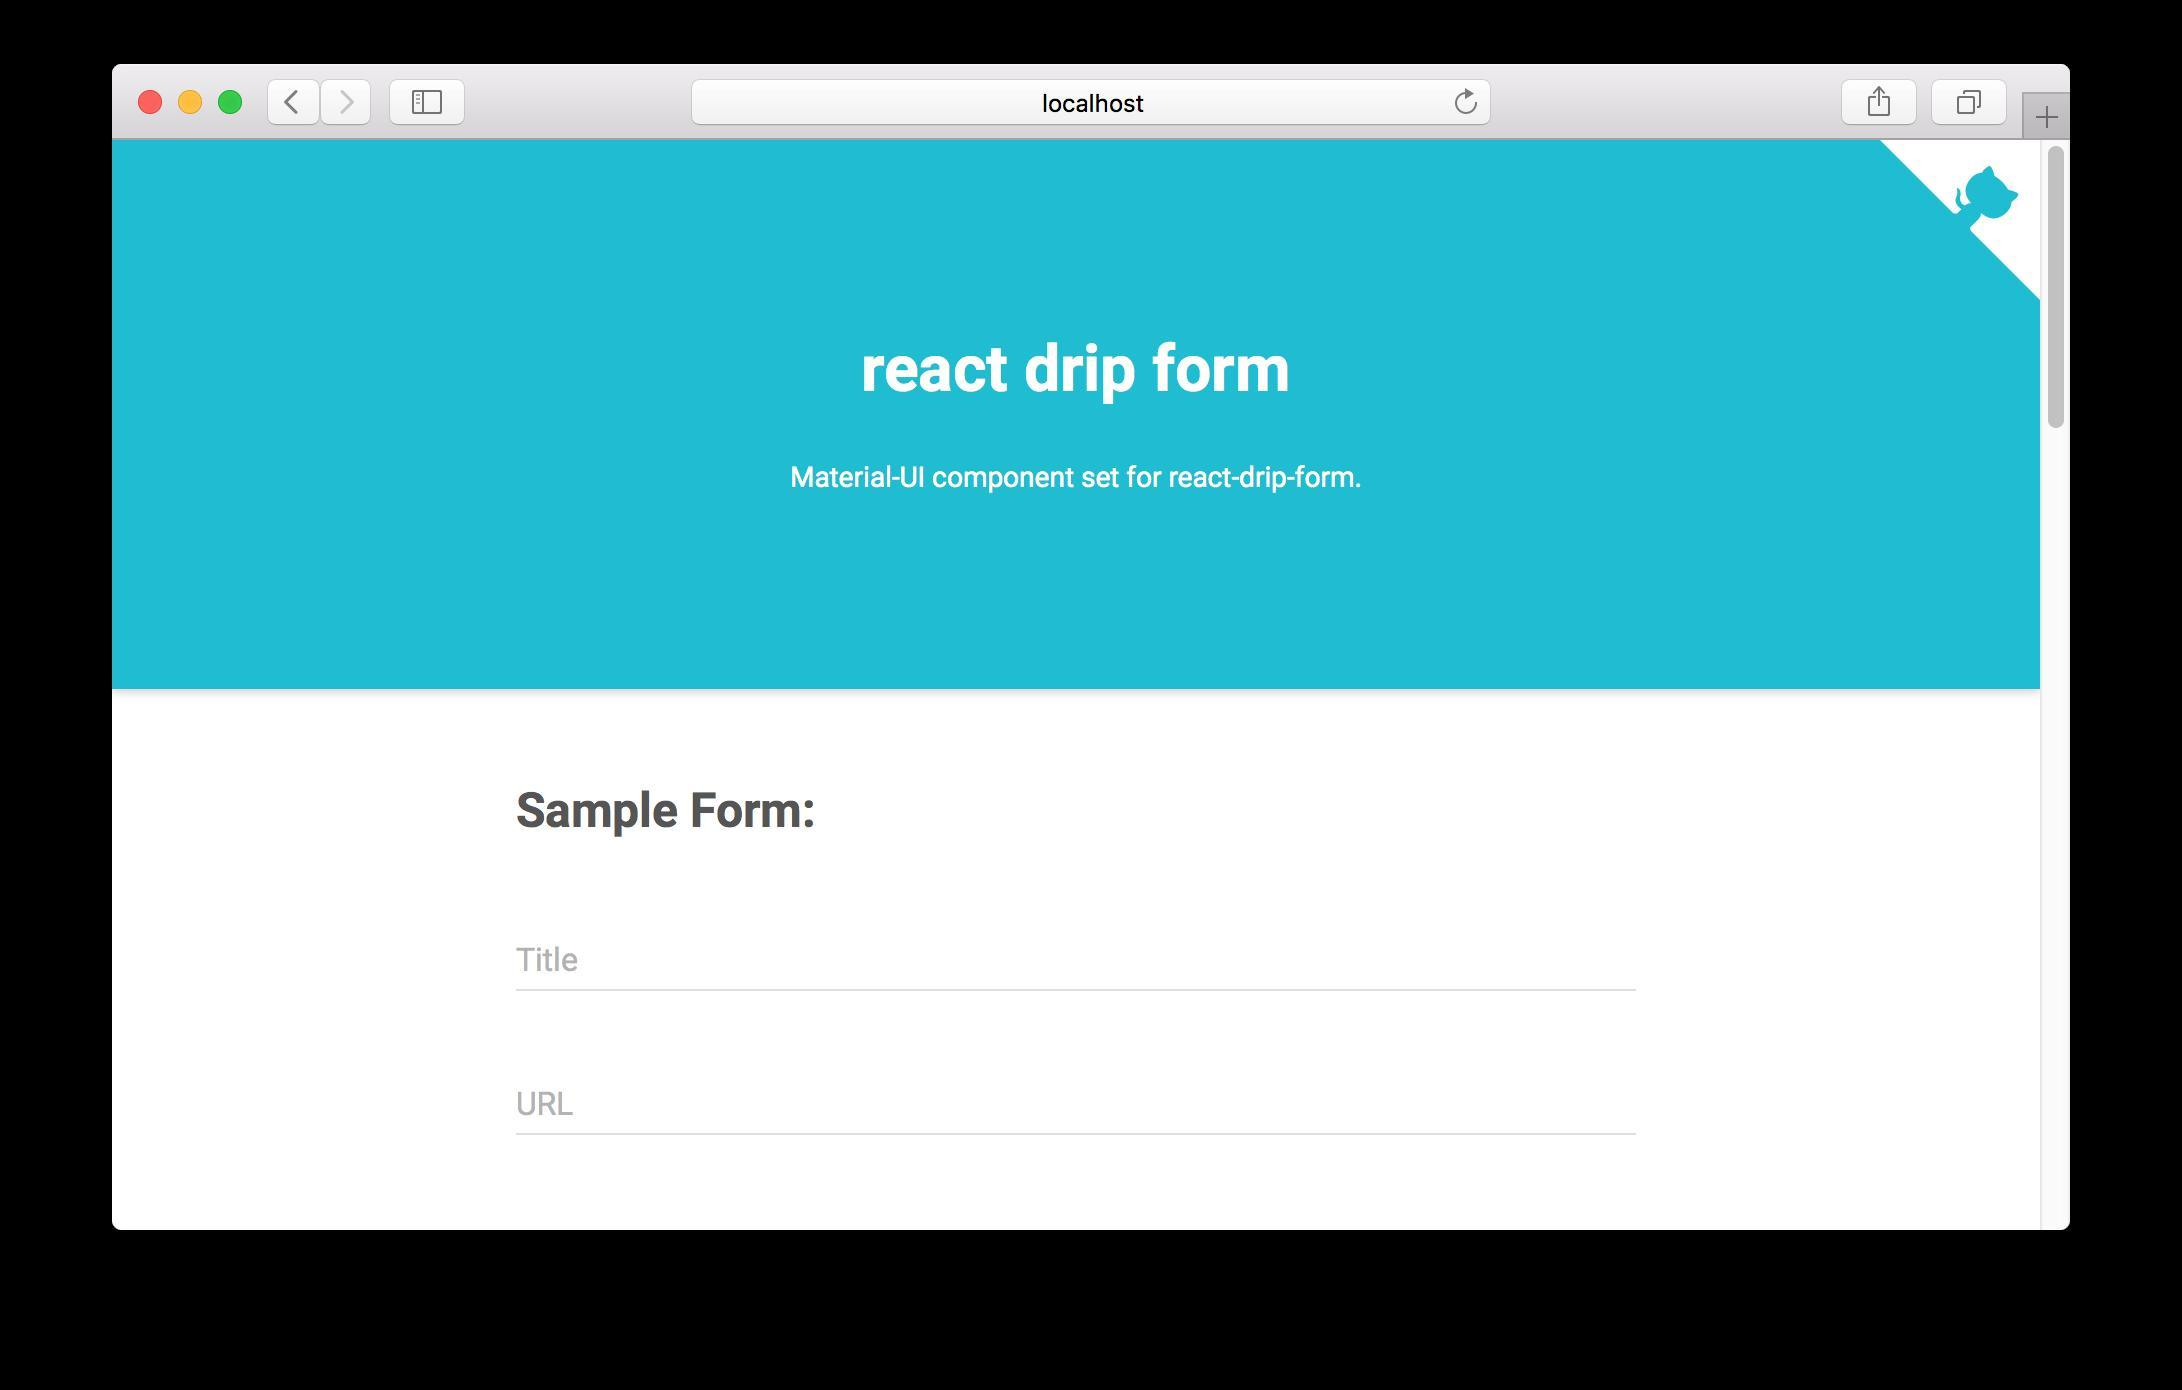input: (507, 1062, 1641, 1140), (509, 924, 1646, 994)
label: (514, 778, 829, 864)
